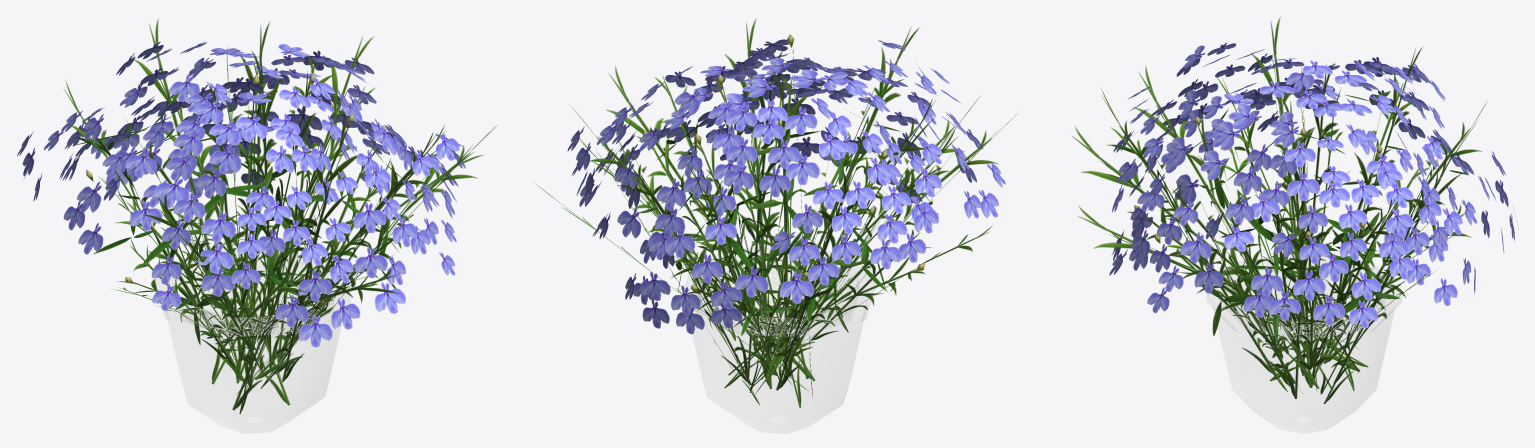
Rendered from flower.glb.
The picture shows the model from 3 angles, left to right: view 1: azimuth 30°, elevation 25°; view 2: azimuth 150°, elevation 25°; view 3: azimuth 270°, elevation 25°; orthographic projection. The views are drawn at different scales.
Visible parts, largest first — view 1: F_foliageplant_11_LOD1_01, F_foliageplant_11_LOD1_02; view 2: F_foliageplant_11_LOD1_01, F_foliageplant_11_LOD1_02; view 3: F_foliageplant_11_LOD1_01, F_foliageplant_11_LOD1_02.
Part boxes in pixels (left/top/right/bottom): F_foliageplant_11_LOD1_01: left=17, top=18, right=497, bottom=414; F_foliageplant_11_LOD1_02: left=166, top=270, right=334, bottom=433; F_foliageplant_11_LOD1_01: left=534, top=18, right=1016, bottom=407; F_foliageplant_11_LOD1_02: left=698, top=273, right=867, bottom=433; F_foliageplant_11_LOD1_01: left=1072, top=17, right=1517, bottom=403; F_foliageplant_11_LOD1_02: left=1212, top=287, right=1395, bottom=433.
Bounding box in the file's own units: 0.5802 × 0.4943 × 0.5836.
Materials: 2 (2 with a texture image).
